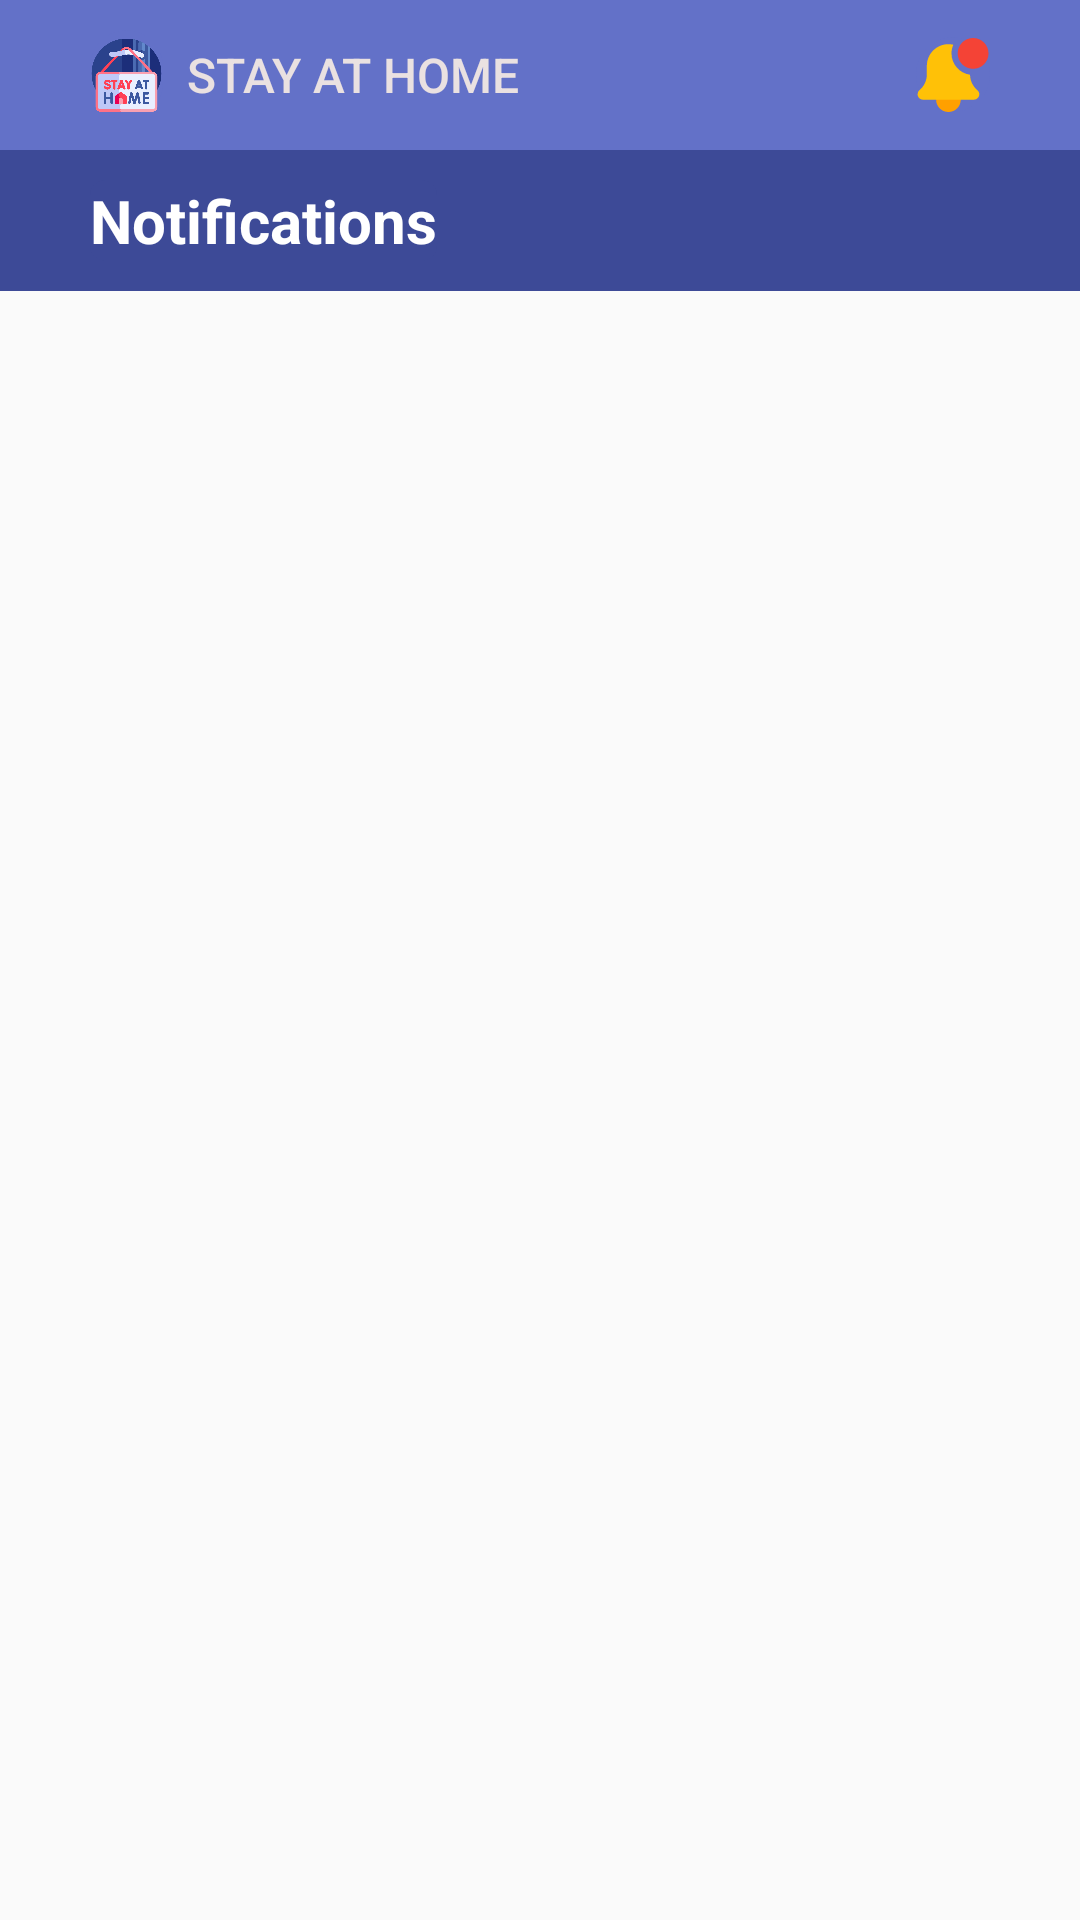

Icons on this 1080 × 1920 Android screen, each with its box as (x1, y1, x2, y2):
notification: (917, 38, 989, 112)
